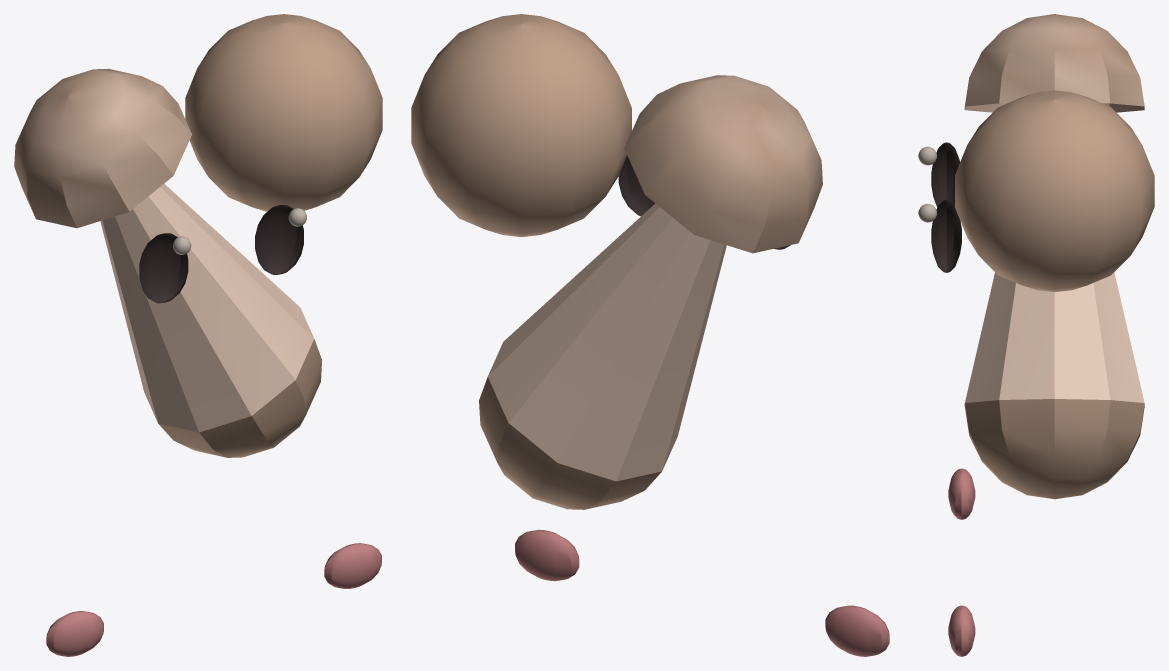
3 renders of one model, left to right at view 1: azimuth 30°, elevation 25°; view 2: azimuth 150°, elevation 25°; view 3: azimuth 270°, elevation 25°, orthographic. The views are drawn at different scales.
Visible parts, largest first — view 1: pet_pb12d67ad; view 2: pet_pb12d67ad; view 3: pet_pb12d67ad.
Boxes of the visible parts, x1,y1,x2,y2 form: pet_pb12d67ad: (14, 14, 382, 656); pet_pb12d67ad: (411, 14, 889, 656); pet_pb12d67ad: (918, 14, 1154, 656).
Size of the model in its own units: 0.3187 by 0.4426 by 0.1748.
